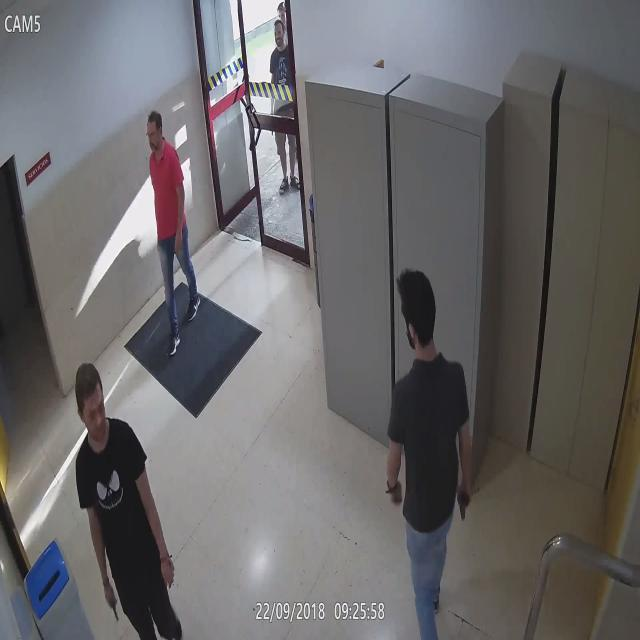Gun: (102, 591, 121, 635), (453, 474, 471, 513)
